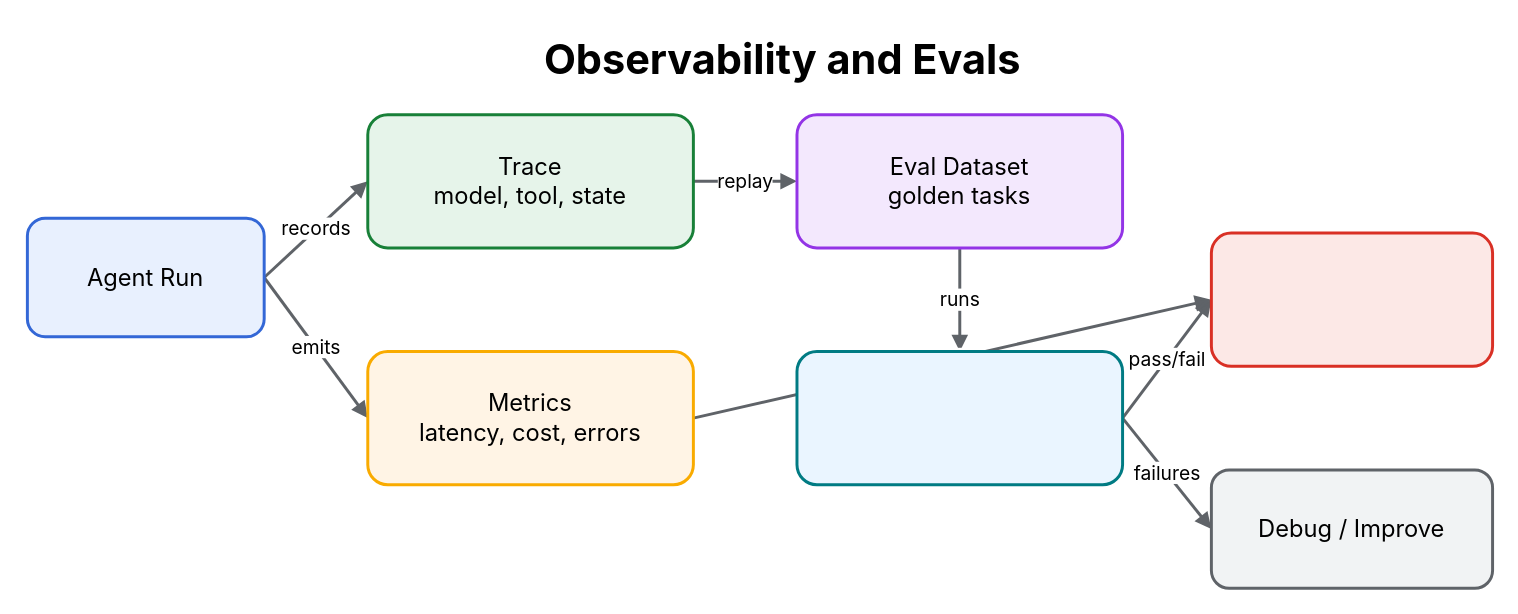
Some shapes in this 1518 by 614 pixel diagram are drawn without their labels. Each missing label, with the box of its shape:
Evaluator scores, failures: (795, 349, 1123, 485)
Release Gate: (1209, 231, 1493, 367)
